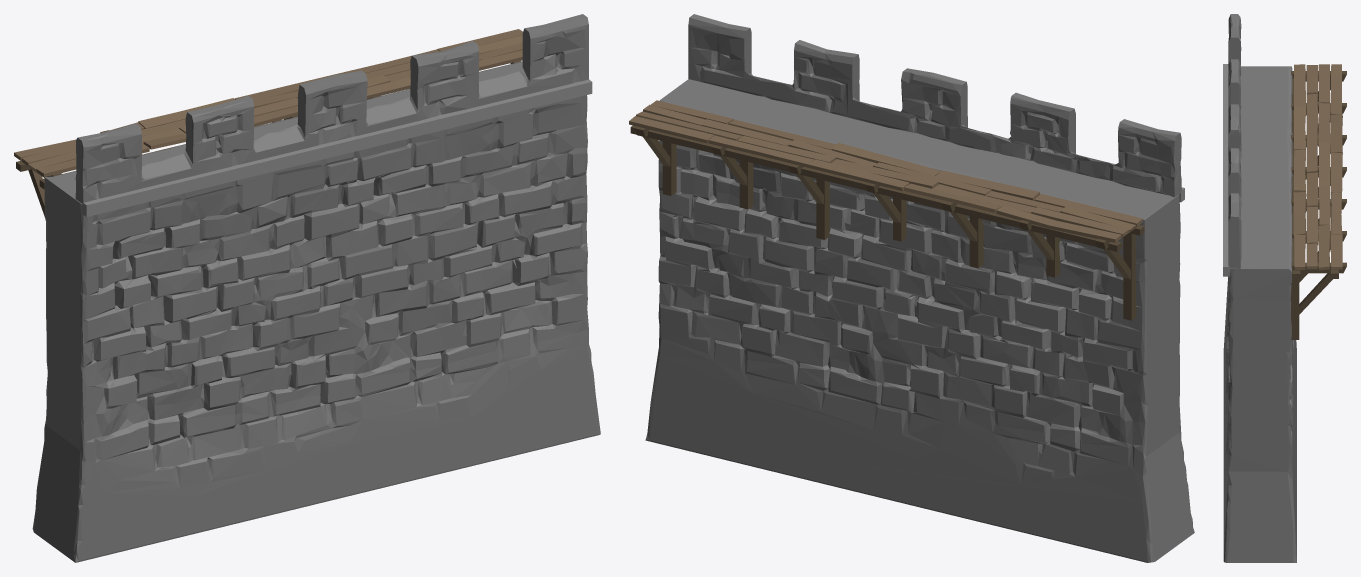
Rendered from castle_battlement_c2.FBX.
3 views of the same model, side by side, from view 1: azimuth 30°, elevation 25°; view 2: azimuth 150°, elevation 25°; view 3: azimuth 270°, elevation 25° (orthographic). The views are drawn at different scales.
Parts seen in each view (by area): view 1: castle_battlement_c2; view 2: castle_battlement_c2; view 3: castle_battlement_c2.
Boxes of the visible parts, bbox=[...] form: castle_battlement_c2: bbox=[14, 14, 600, 562]; castle_battlement_c2: bbox=[629, 14, 1194, 562]; castle_battlement_c2: bbox=[1223, 14, 1346, 562].
Size of the model in its own units: 15.63 by 11.8 by 3.87.
